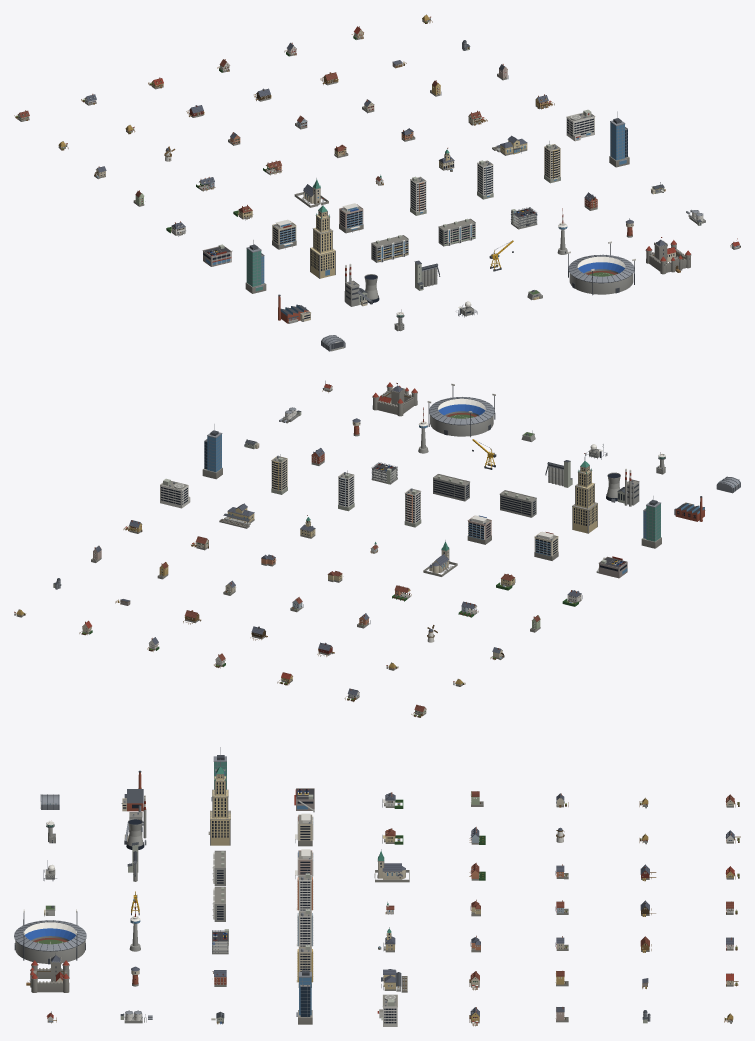
File: world_buildings_hd.glb
3 renders of one model, top to bottom at view 1: azimuth 30°, elevation 25°; view 2: azimuth 150°, elevation 25°; view 3: azimuth 270°, elevation 25°, orthographic. The views are drawn at different scales.
Parts seen in each view (by area): view 1: Haus_Stadion_HD, Haus_Wolkenkratzer_HD, Haus_Burg_HD, Haus_Kraftwerk_HD, Haus_Bueroturm_2_HD, Haus_Bueroturm_HD, Haus_Plattenbau_HD, Haus_Plattenbau_2_HD, Haus_Krankenhaus_HD, Haus_Hotel_2_HD, Haus_Hotel_HD, Haus_Wohnturm_3_HD (+3 smaller); view 2: Haus_Stadion_HD, Haus_Wolkenkratzer_HD, Haus_Burg_HD, Haus_Kraftwerk_HD, Haus_Bueroturm_HD, Haus_Bueroturm_2_HD, Haus_Plattenbau_HD, Haus_Plattenbau_2_HD, Haus_Krankenhaus_HD, Haus_Hotel_HD, Haus_Hotel_2_HD, Haus_Wohnturm_3_HD (+4 smaller); view 3: Haus_Stadion_HD, Haus_Wolkenkratzer_HD, Haus_Burg_HD, Haus_Kraftwerk_HD, Haus_Bueroturm_HD, Haus_Kirche_HD, Haus_Wohnturm_2_HD, Haus_Wohnturm_HD, Haus_Hotel_HD, Haus_Krankenhaus_HD, Haus_Fabrik_HD, Haus_Bahnhof_HD (+2 smaller).
Part boxes in pixels (box(x1,y1,x2,y2)): Haus_Stadion_HD: box(567, 241, 635, 295); Haus_Wolkenkratzer_HD: box(310, 198, 335, 278); Haus_Burg_HD: box(645, 237, 691, 274); Haus_Kraftwerk_HD: box(344, 263, 379, 306); Haus_Bueroturm_2_HD: box(245, 240, 266, 293); Haus_Bueroturm_HD: box(609, 111, 629, 167); Haus_Plattenbau_HD: box(371, 235, 408, 262); Haus_Plattenbau_2_HD: box(438, 218, 475, 246); Haus_Krankenhaus_HD: box(566, 109, 595, 141); Haus_Hotel_2_HD: box(339, 203, 363, 233); Haus_Hotel_HD: box(272, 219, 296, 249); Haus_Wohnturm_3_HD: box(544, 141, 560, 183); Haus_Stadion_HD: box(427, 383, 495, 437); Haus_Wolkenkratzer_HD: box(572, 453, 597, 533); Haus_Burg_HD: box(372, 382, 417, 416); Haus_Kraftwerk_HD: box(606, 468, 639, 506); Haus_Bueroturm_HD: box(202, 424, 222, 479); Haus_Bueroturm_2_HD: box(641, 496, 661, 548); Haus_Plattenbau_HD: box(499, 490, 536, 517); Haus_Plattenbau_2_HD: box(433, 474, 469, 501); Haus_Krankenhaus_HD: box(160, 478, 190, 508); Haus_Hotel_HD: box(534, 531, 558, 560); Haus_Hotel_2_HD: box(467, 515, 491, 544); Haus_Wohnturm_3_HD: box(271, 454, 287, 494); Haus_Stadion_HD: box(14, 909, 86, 964); Haus_Wolkenkratzer_HD: box(208, 759, 230, 845); Haus_Burg_HD: box(26, 953, 69, 992); Haus_Kraftwerk_HD: box(124, 795, 146, 849); Haus_Bueroturm_HD: box(296, 963, 312, 1024); Haus_Kirche_HD: box(374, 849, 409, 882); Haus_Wohnturm_2_HD: box(296, 905, 313, 946); Haus_Wohnturm_HD: box(296, 869, 313, 910); Haus_Hotel_HD: box(295, 813, 313, 846); Haus_Krankenhaus_HD: box(377, 994, 397, 1026); Haus_Fabrik_HD: box(121, 770, 143, 811); Haus_Bahnhof_HD: box(381, 969, 407, 992).
Bounding box in the file's own units: 587 × 100 × 787.
